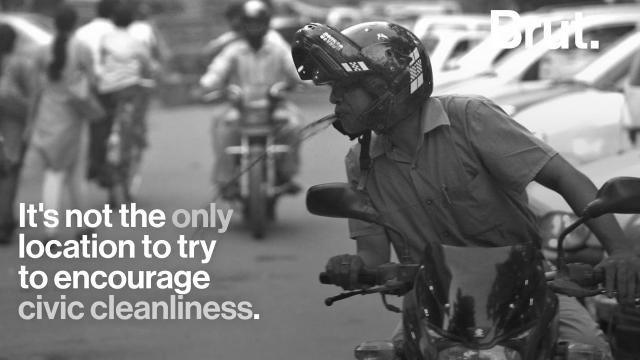spit: (205, 69, 360, 220)
